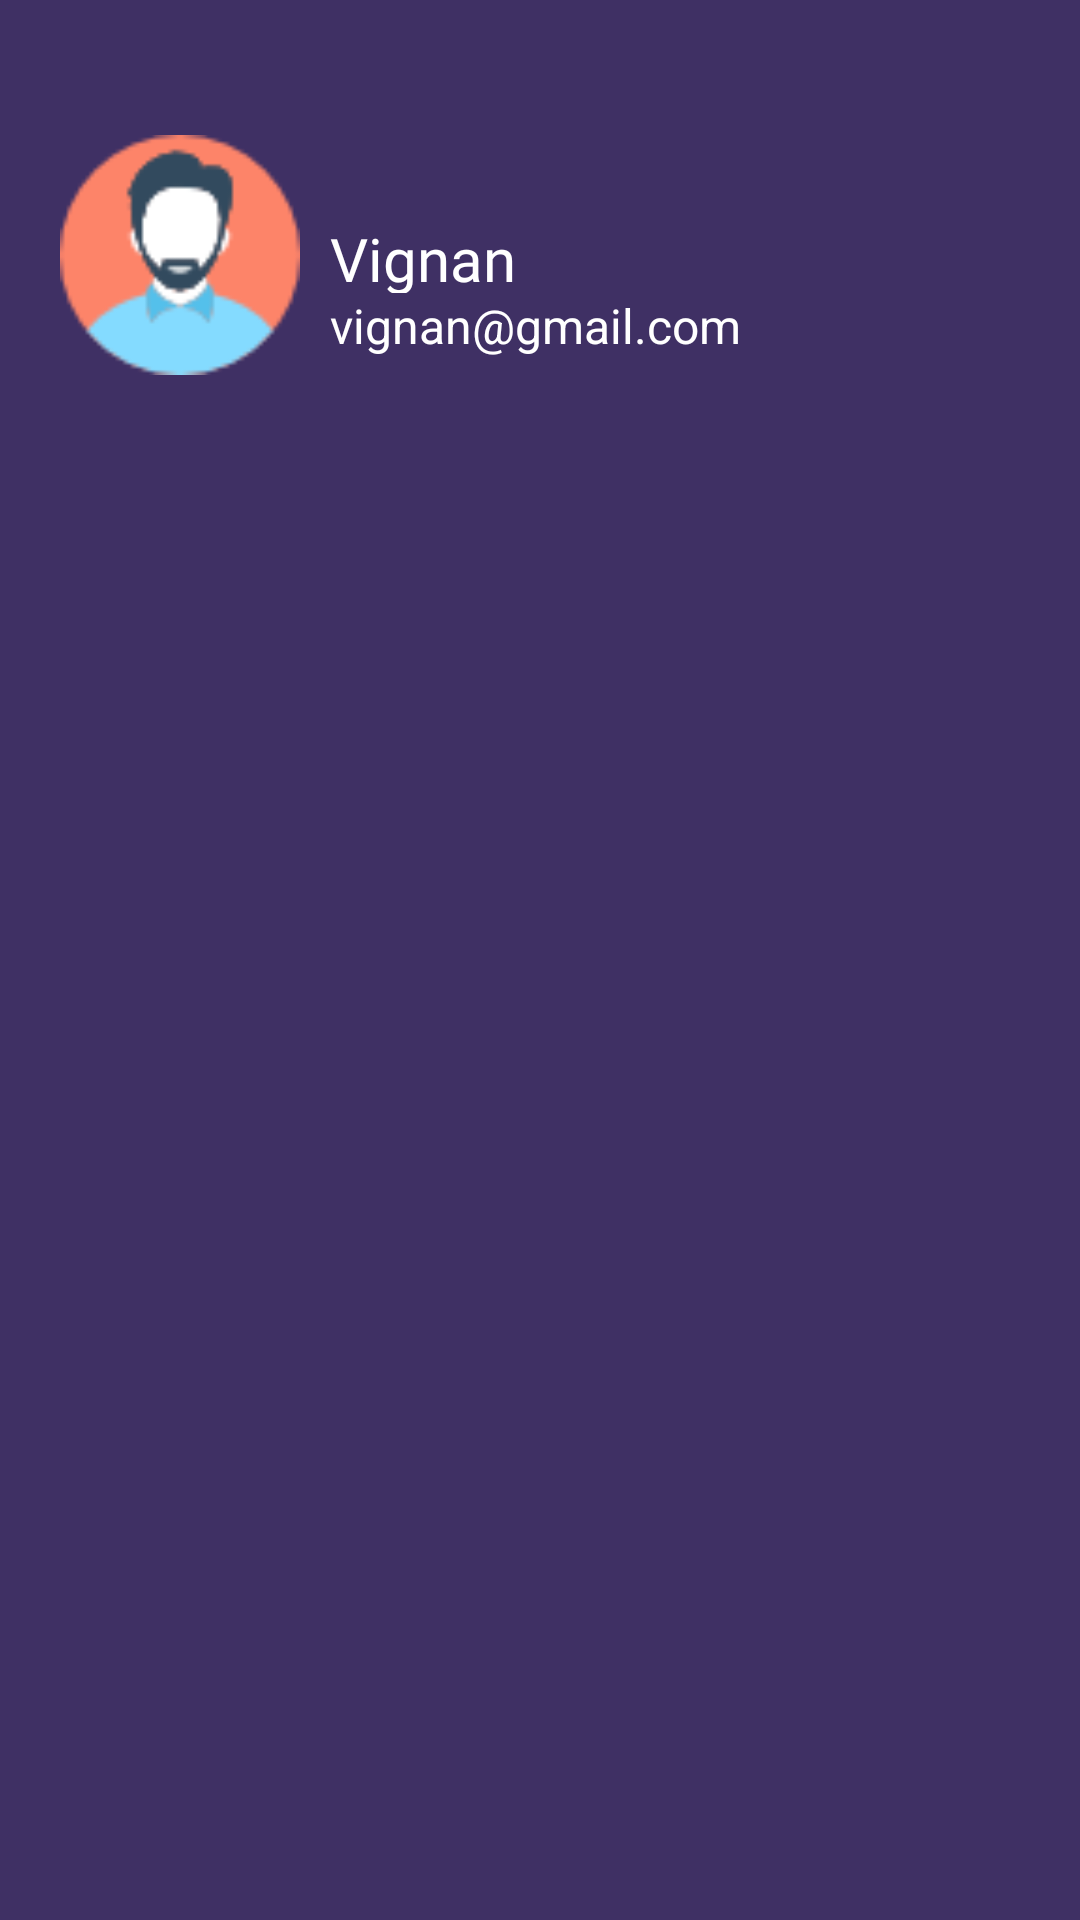

Locate icon controls on the screen. Image size 1080px×1920px, boxes as (x1, y1, x2, y2).
profile: (60, 135, 300, 375)
